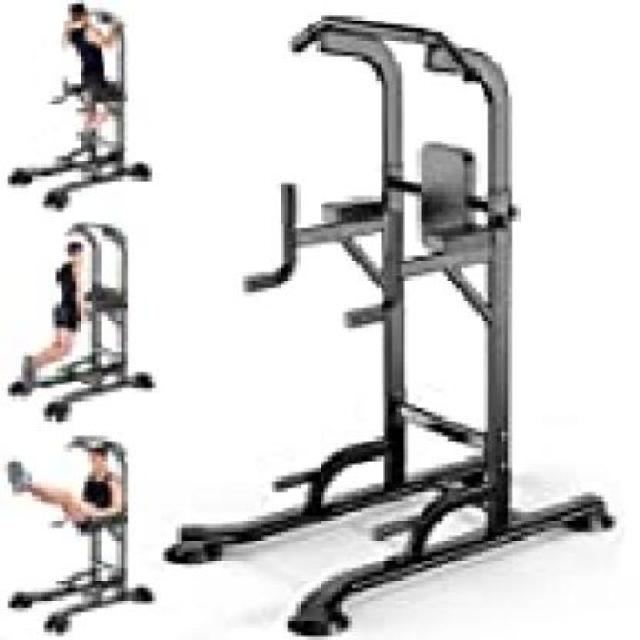chinning dipping: (163, 12, 612, 634)
